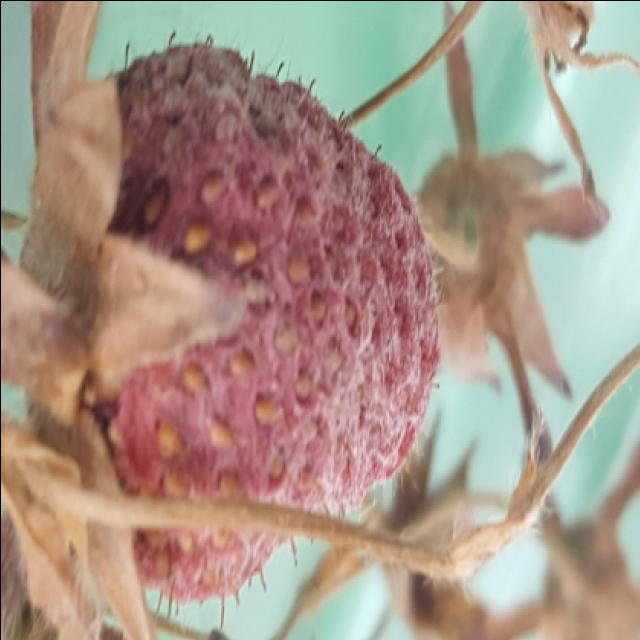Powdery Mildew Fruit: (37, 38, 443, 601)
